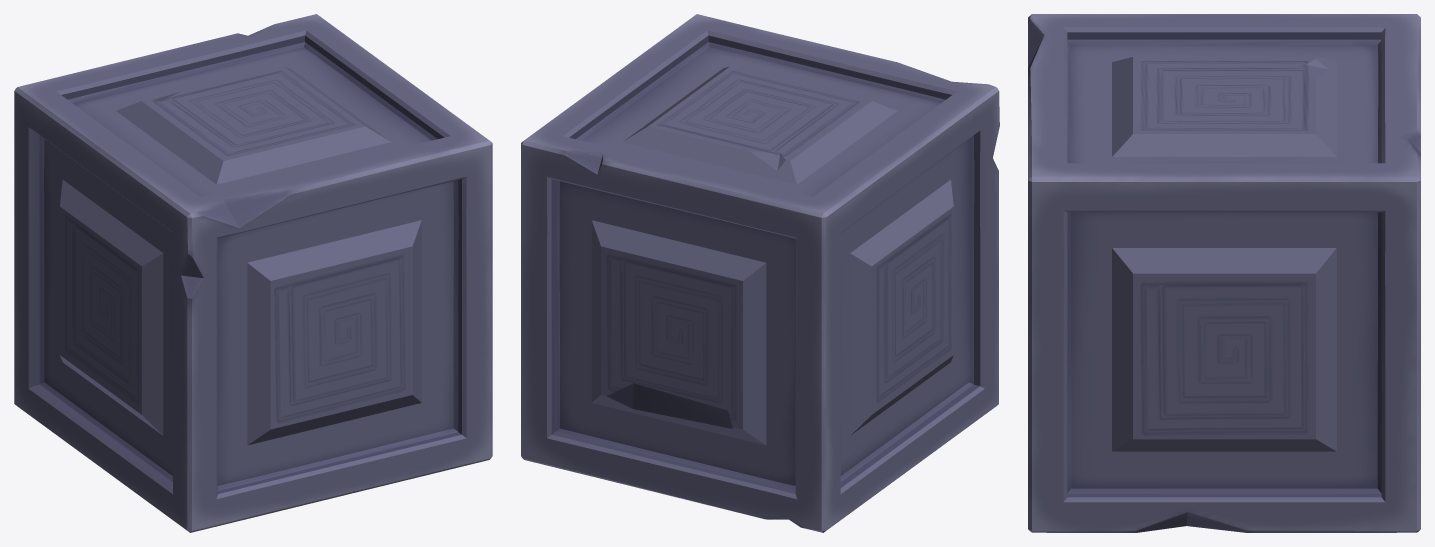
File: Puzzlebox.fbx
3 renders of one model, left to right at view 1: azimuth 30°, elevation 25°; view 2: azimuth 150°, elevation 25°; view 3: azimuth 270°, elevation 25°, orthographic. The views are drawn at different scales.
Visible parts, largest first — view 1: puzzlebox; view 2: puzzlebox; view 3: puzzlebox.
Boxes of the visible parts, x1,y1,x2,y2 form: puzzlebox: (14, 14, 492, 532); puzzlebox: (521, 14, 999, 532); puzzlebox: (1028, 14, 1420, 532).
Bounding box in the file's own units: 3 × 3 × 3.
